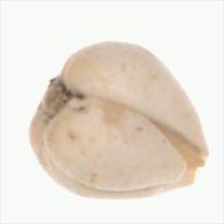L3: (181, 137, 210, 187)
L4: (28, 42, 210, 199)
